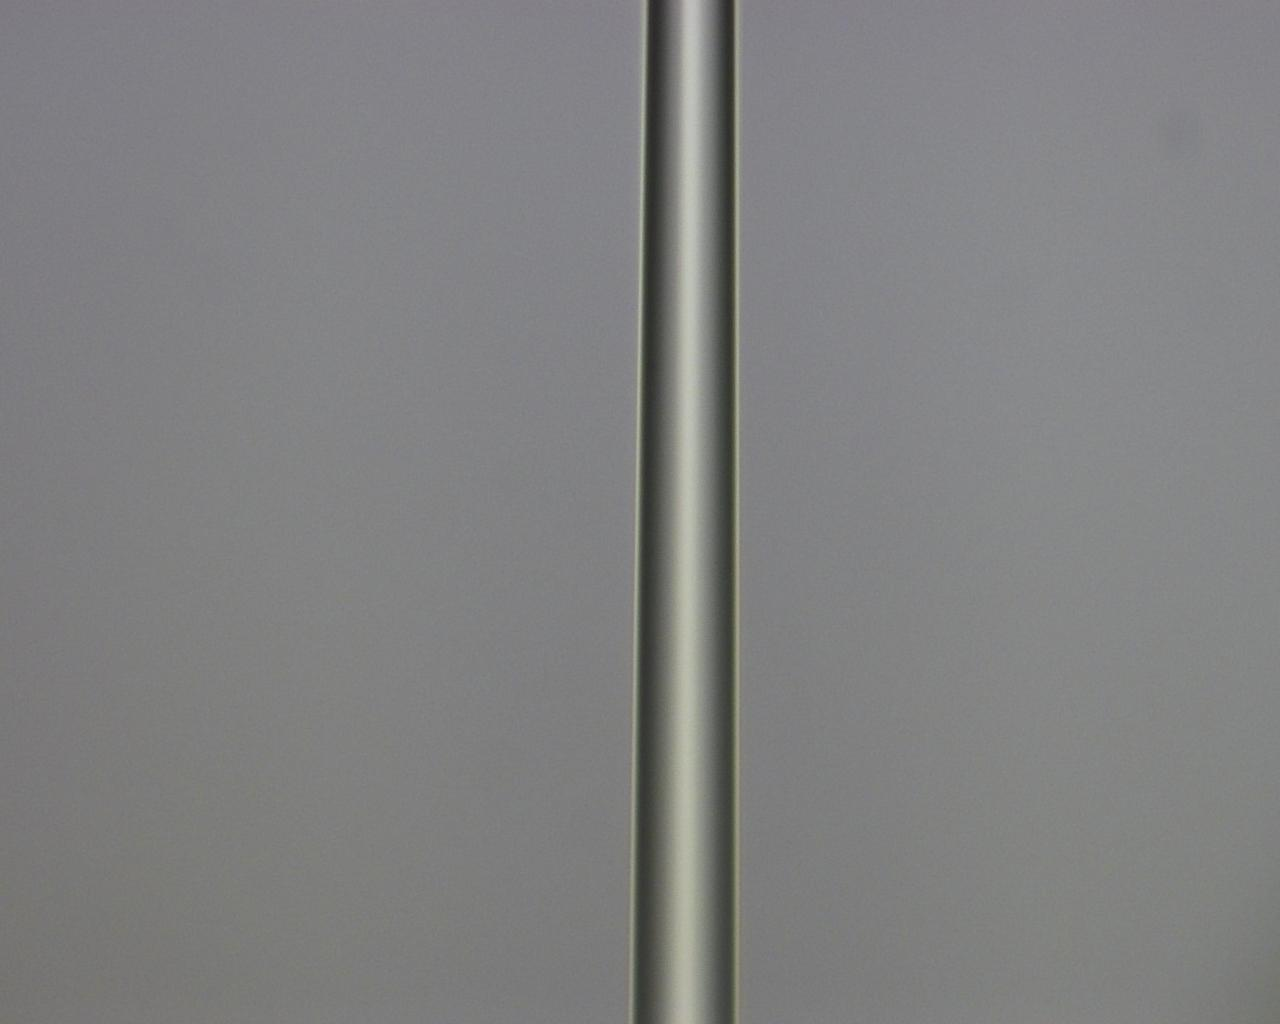fiber: (911, 0, 959, 1024)
